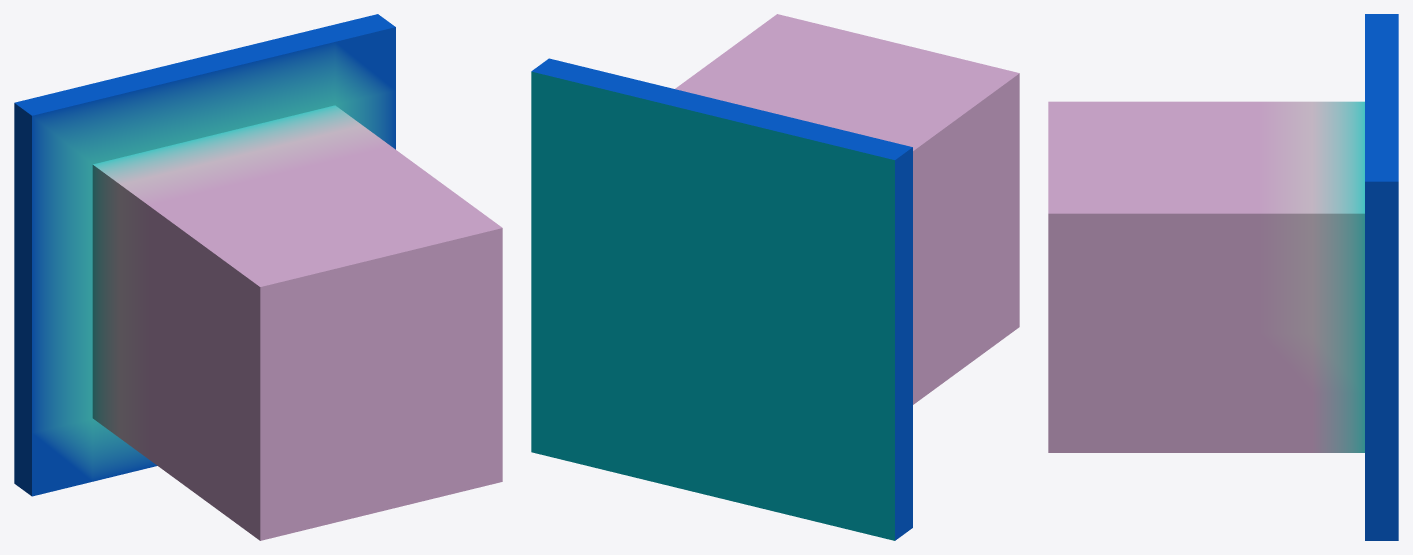
File: Physics Hat.dae
3 views of the same model, side by side, from view 1: azimuth 30°, elevation 25°; view 2: azimuth 150°, elevation 25°; view 3: azimuth 270°, elevation 25° (orthographic). The views are drawn at different scales.
Visible parts, largest first — view 1: Plane.001; view 2: Plane.001; view 3: Plane.001.
Boxes of the visible parts, x1=… form: Plane.001: x1=14, y1=14, x2=502, y2=540; Plane.001: x1=531, y1=14, x2=1019, y2=540; Plane.001: x1=1048, y1=14, x2=1398, y2=540.
Bounding box in the file's own units: 0.7729 × 0.6824 × 0.7729.
